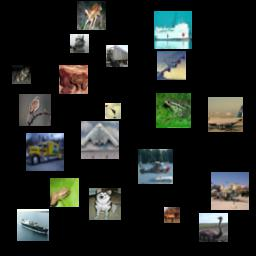airplane: (81, 121, 119, 159), (211, 172, 249, 210), (208, 97, 243, 132), (138, 149, 173, 184), (157, 51, 186, 80), (105, 103, 121, 119)
bird: (19, 94, 51, 126), (199, 213, 228, 242)
deer: (77, 1, 106, 30), (164, 207, 180, 223)
dog: (89, 188, 121, 220)
frog: (156, 93, 191, 128), (50, 178, 79, 207), (59, 65, 88, 94), (12, 65, 31, 84)
ship: (154, 11, 192, 49), (17, 209, 49, 241), (70, 34, 89, 53)
truck: (26, 133, 64, 171), (106, 45, 128, 67)
